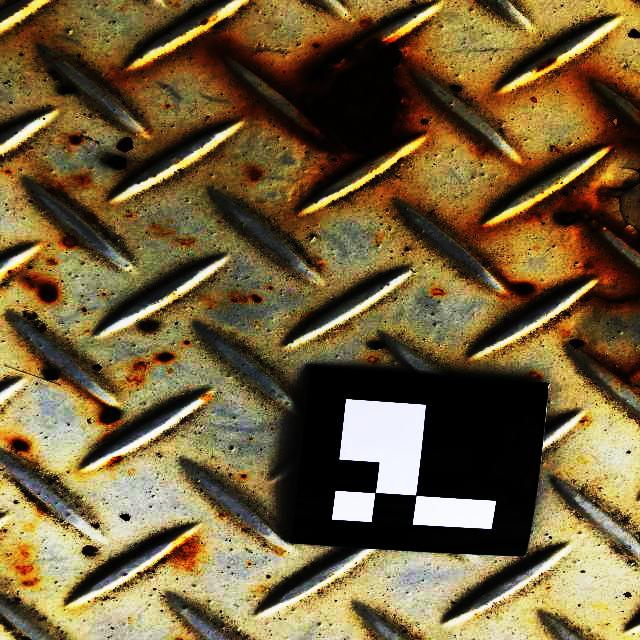Corrosion: (290, 35, 414, 174), (565, 164, 640, 310), (587, 351, 640, 385), (165, 537, 199, 569), (619, 123, 640, 157), (29, 279, 58, 302), (99, 402, 117, 424), (534, 58, 558, 72), (508, 282, 533, 295), (15, 564, 34, 576), (46, 185, 64, 195), (21, 577, 39, 586), (85, 212, 98, 224), (63, 236, 77, 247), (14, 441, 27, 452), (359, 19, 372, 29), (156, 354, 172, 362), (251, 170, 262, 181), (529, 372, 542, 381), (69, 136, 81, 145), (111, 456, 122, 463), (252, 296, 261, 304), (21, 549, 30, 557), (199, 19, 208, 26), (313, 43, 319, 48), (185, 340, 190, 344)
